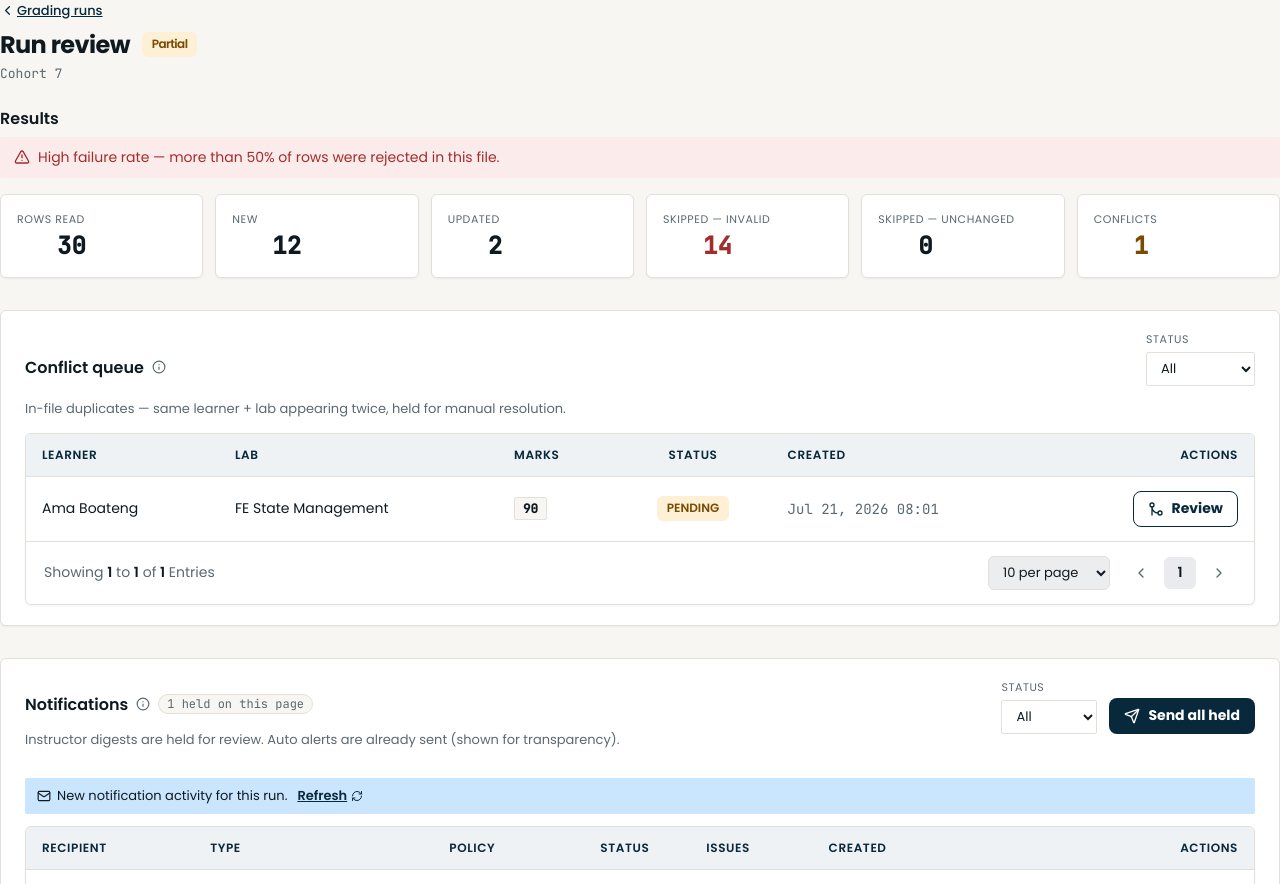
Test: RunReviewView › flags new activity for a notification the stream reports off the current page, and refetches on Refresh
The image size is (1280, 884).
Click the button "Refresh": x=330, y=796 [297,786,363,806]
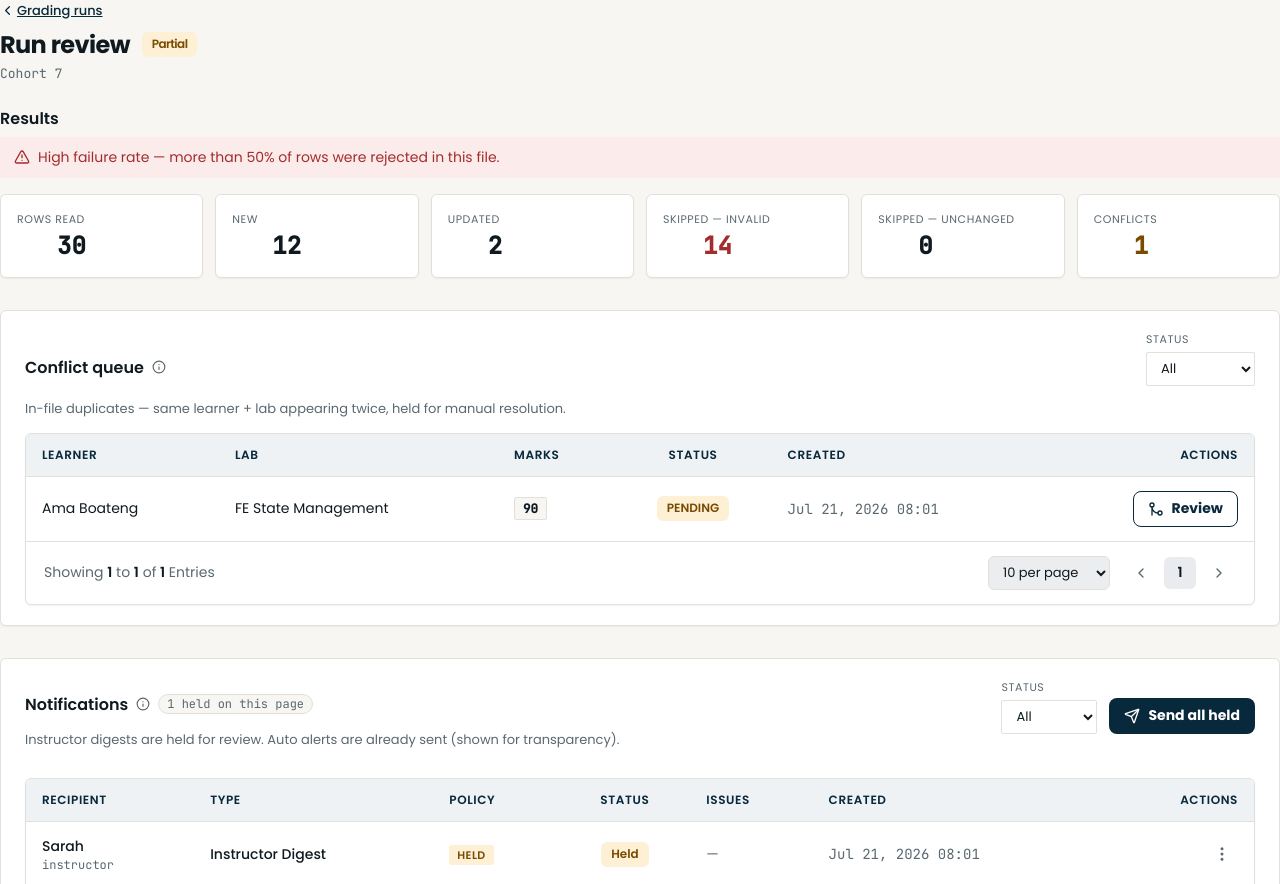
Expected: the text "New notification activity" is gone
